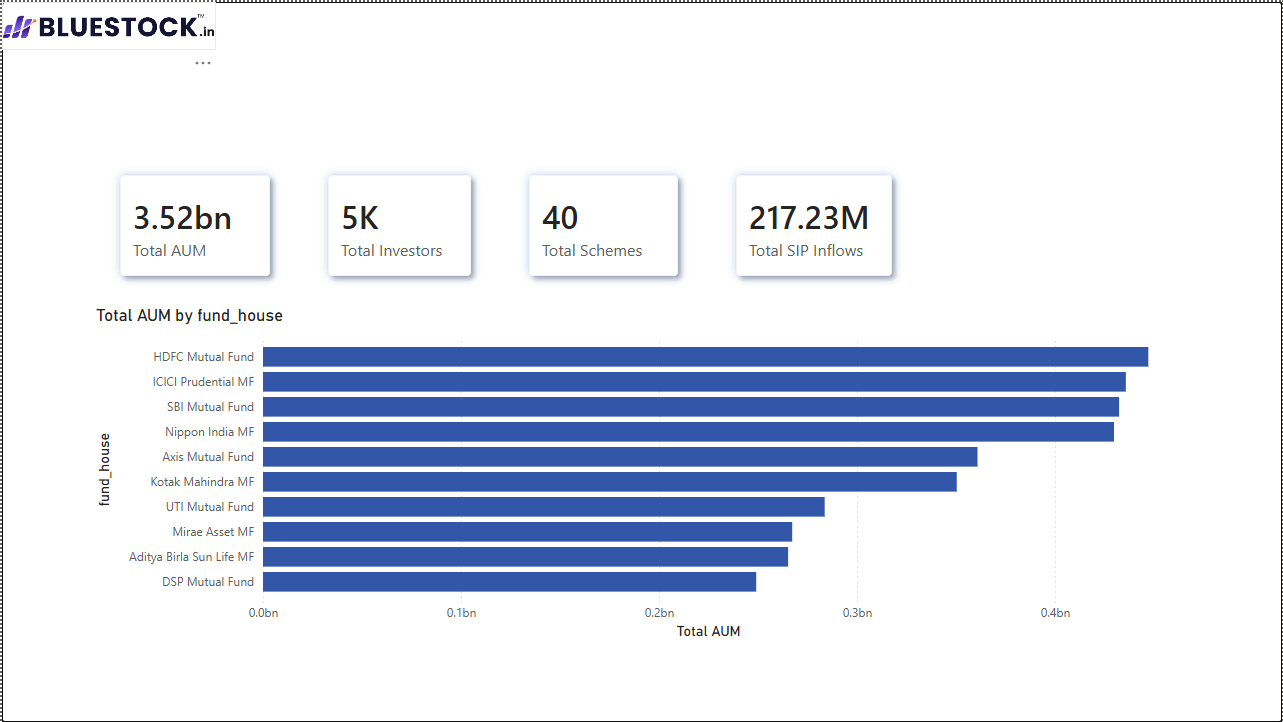

The dashboard page shown, as its layout file describes it:
{"tool":"powerbi","page":{"name":"Industry Overview","canvas":[1280,720],"ordinal":0},"visuals":[{"type":"cardVisual","fields":{"Data":["fact_transactions.Total AUM"]},"box":[89.5,144,207.2,159.5],"z":0},{"type":"cardVisual","fields":{"Data":["fact_transactions.Total Investors"]},"box":[296.7,144,201.3,159.5],"z":1000},{"type":"cardVisual","fields":{"Data":["dim_fund.Total Schemes"]},"box":[498,144,207.2,159.5],"z":2000},{"type":"cardVisual","fields":{"Data":["fact_transactions.Total SIP Inflows"]},"box":[705.2,144,214,159.5],"z":3000},{"type":"clusteredBarChart","fields":{"Category":["dim_fund.fund_house"],"Y":["fact_transactions.Total AUM"]},"box":[89.5,303.5,1082.6,338.5],"z":4000},{"type":"image","box":[0,0,214,47.7],"z":4001}]}

Visuals, with their boxes in screenshot pixels (x1, y1, x2, y2), scaled from the page's 1280x720 canvas onto the 1283x722 screenshot:
cardVisual - fact_transactions.Total AUM: [90,144,297,304]
cardVisual - fact_transactions.Total Investors: [297,144,499,304]
cardVisual - dim_fund.Total Schemes: [499,144,707,304]
cardVisual - fact_transactions.Total SIP Inflows: [707,144,921,304]
clusteredBarChart - dim_fund.fund_house x fact_transactions.Total AUM: [90,304,1175,644]
image: [0,0,215,48]
